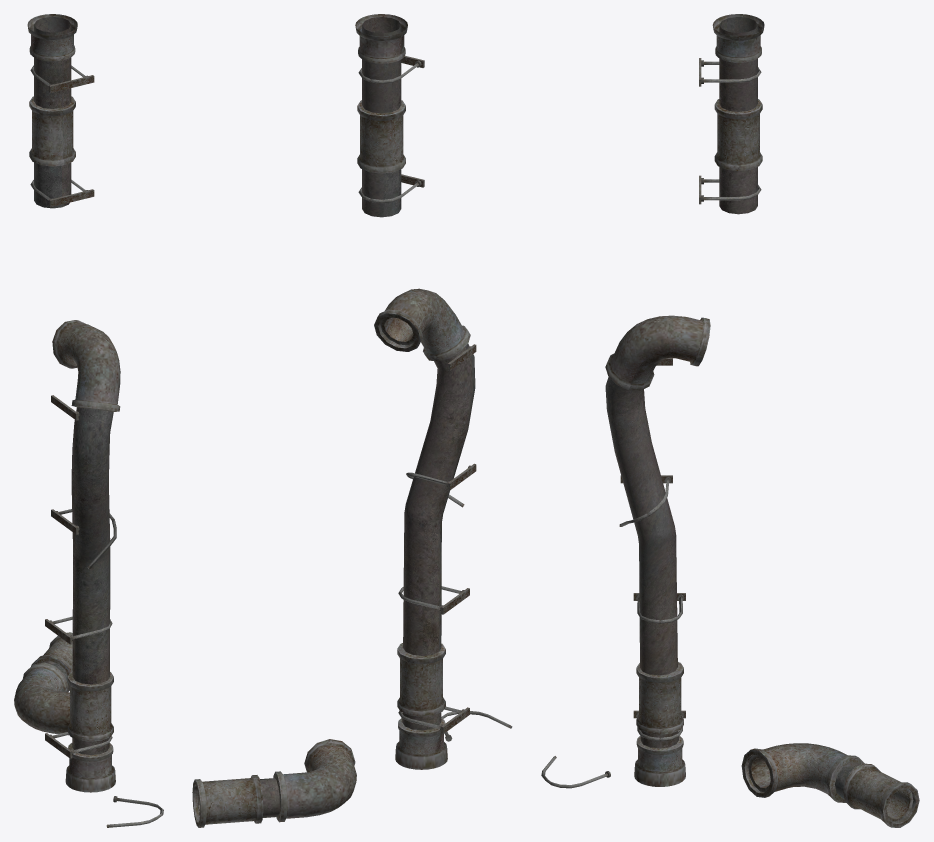
Rendered from sm22_063_brokenpipe01a.fbx.
3 views of the same model, side by side, from view 1: azimuth 30°, elevation 25°; view 2: azimuth 150°, elevation 25°; view 3: azimuth 270°, elevation 25° (orthographic). The views are drawn at different scales.
Parts seen in each view (by area): view 1: LOD_1_Group_0_Sub_1__st2_police1fLeftPipeline01_A_Mat; view 2: LOD_1_Group_0_Sub_1__st2_police1fLeftPipeline01_A_Mat; view 3: LOD_1_Group_0_Sub_1__st2_police1fLeftPipeline01_A_Mat.
Boxes of the visible parts, x1=… form: LOD_1_Group_0_Sub_1__st2_police1fLeftPipeline01_A_Mat: x1=14, y1=14, x2=163, y2=827; LOD_1_Group_0_Sub_1__st2_police1fLeftPipeline01_A_Mat: x1=192, y1=14, x2=512, y2=827; LOD_1_Group_0_Sub_1__st2_police1fLeftPipeline01_A_Mat: x1=541, y1=14, x2=919, y2=827.
Bounding box in the file's own units: 0.6692 × 3.21 × 1.46.
